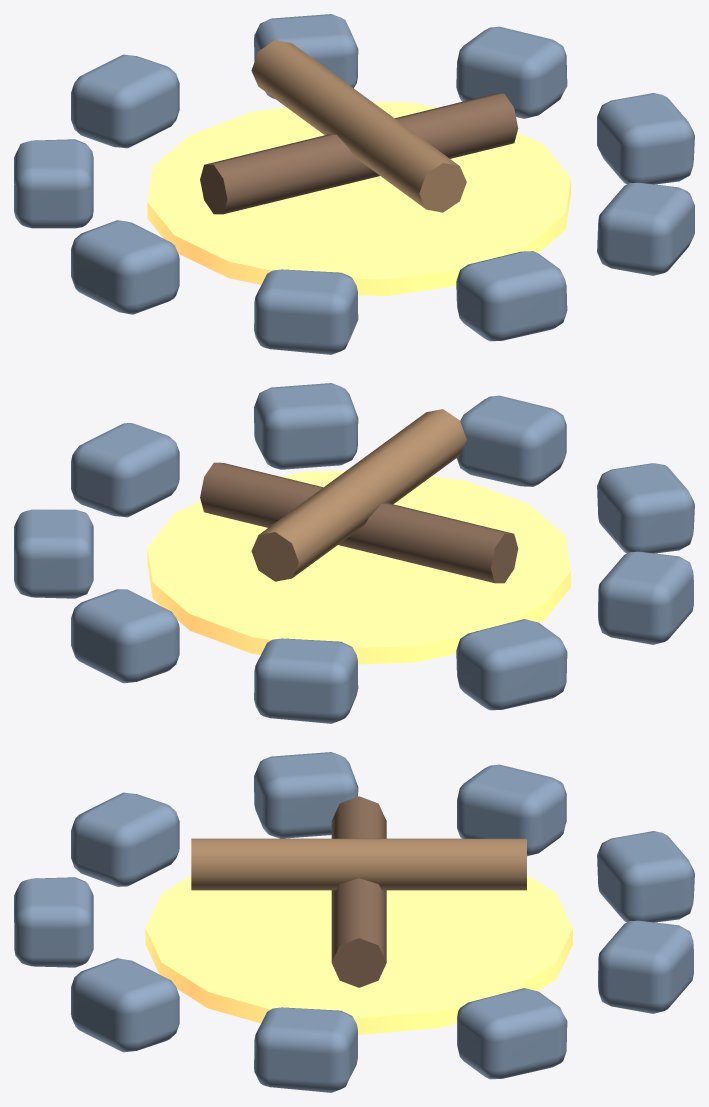
The model's file is campfire.lod1.glb.
3 views of the same model, one above another, from view 1: azimuth 30°, elevation 25°; view 2: azimuth 150°, elevation 25°; view 3: azimuth 270°, elevation 25° (orthographic).
Visible parts, largest first — view 1: mesh; view 2: mesh; view 3: mesh.
Part boxes in pixels (bbox=[...]): mesh: bbox=[14, 14, 694, 354]; mesh: bbox=[14, 383, 694, 723]; mesh: bbox=[14, 752, 694, 1092].
Size of the model in its own units: 2.26 by 0.4106 by 2.23.
